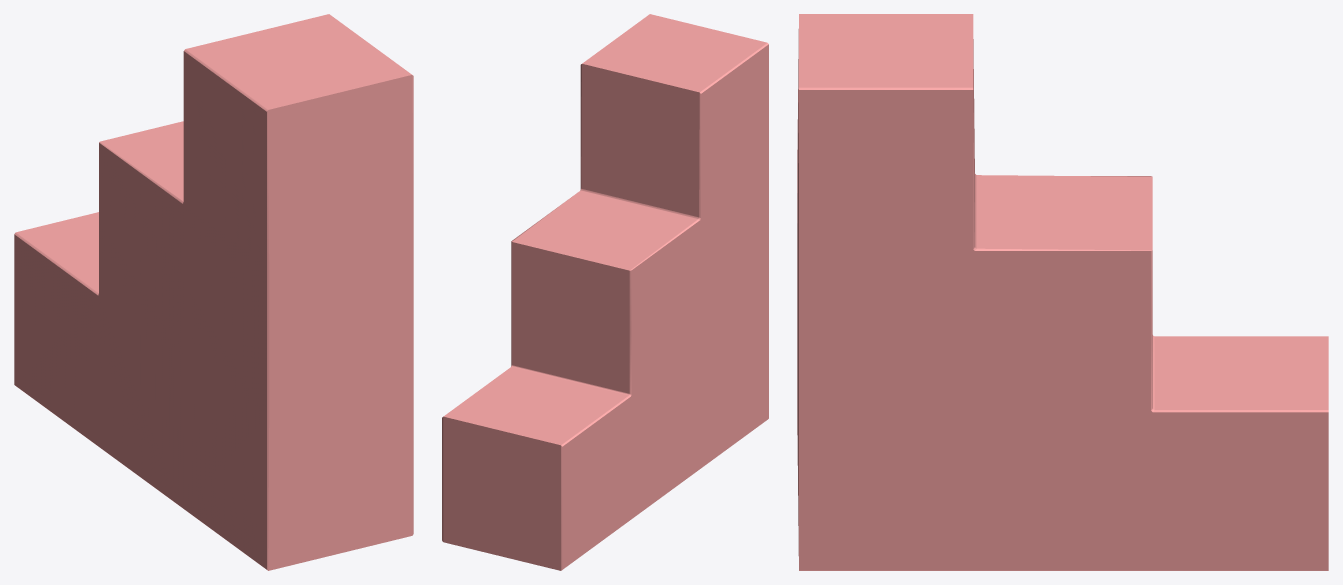
Rendered from redBlock_edit.fbx.
The picture shows the model from 3 angles, left to right: view 1: azimuth 30°, elevation 25°; view 2: azimuth 150°, elevation 25°; view 3: azimuth 270°, elevation 25°; orthographic projection. The views are drawn at different scales.
Visible parts, largest first — view 1: Red_Corner; view 2: Red_Corner; view 3: Red_Corner.
Part boxes in pixels (x1,y1,x2,y2): Red_Corner: (14, 14, 413, 570); Red_Corner: (442, 14, 768, 570); Red_Corner: (797, 14, 1328, 570).
Bounding box in the file's own units: 100 × 300 × 299.
